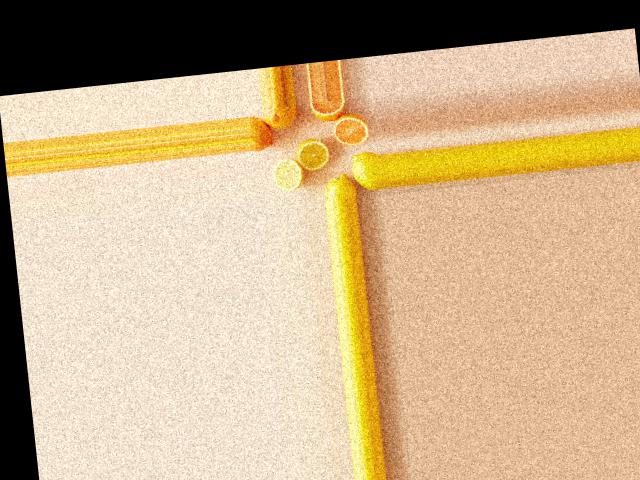lemon: (248, 111, 279, 154)
